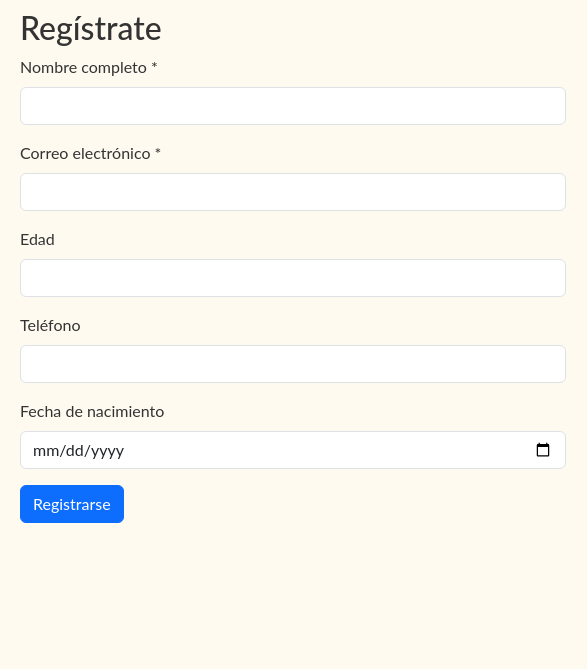
Scenario: Registro Component › debería mostrar error si la edad es menor a 13
This screenshot has width=587, height=669.
Type "12" into the number field labelled "Edad" at (293, 278), box [20,259,566,297]
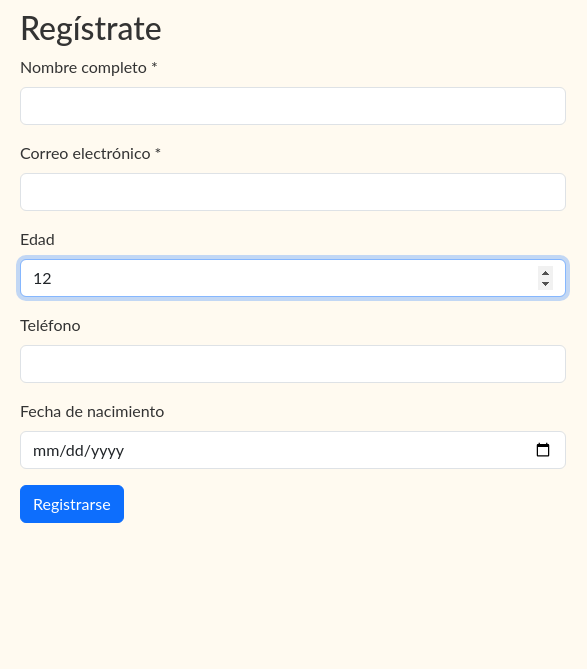
Click the button "Registrarse" at (72, 504), box [20,485,124,523]
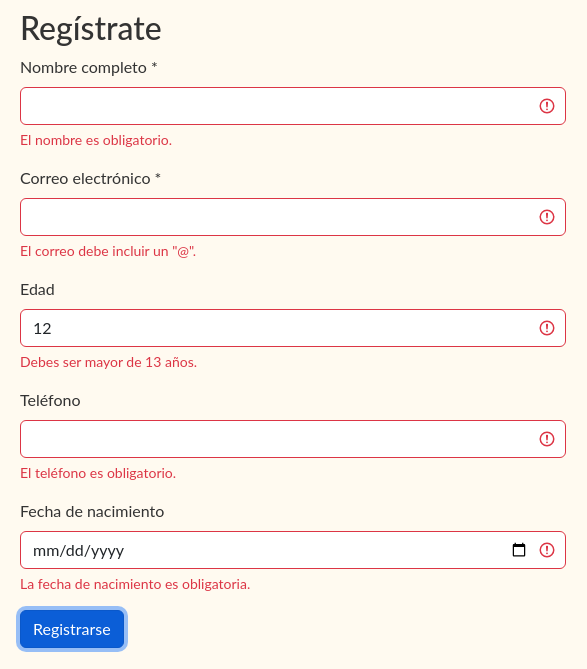
Result: the text "Debes ser mayor de 13 años." is shown at [20,353,197,370]
